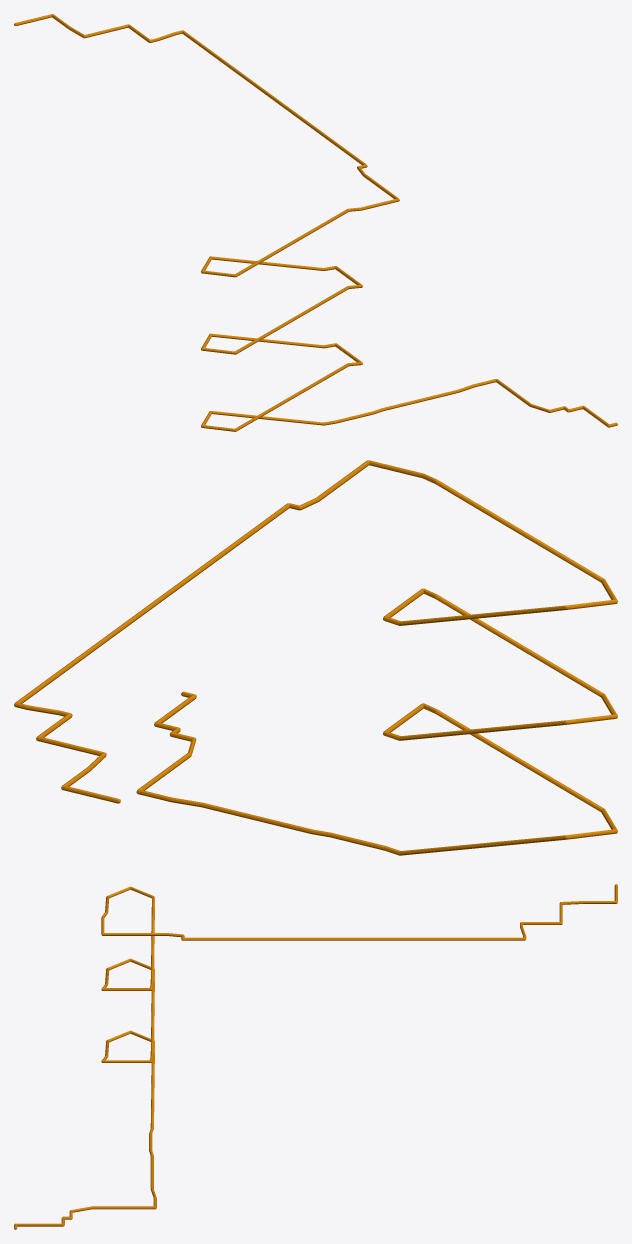
The picture shows the model from 3 angles, top to bottom: view 1: azimuth 30°, elevation 25°; view 2: azimuth 150°, elevation 25°; view 3: azimuth 270°, elevation 25°; orthographic projection. The views are drawn at different scales.
Bounding box in the file's own units: 2406 × 1520 × 3801.
